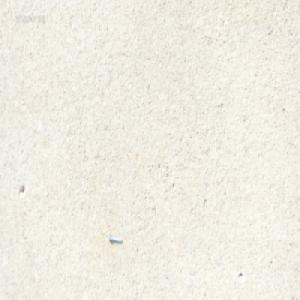Nail: (108, 234, 123, 244)
